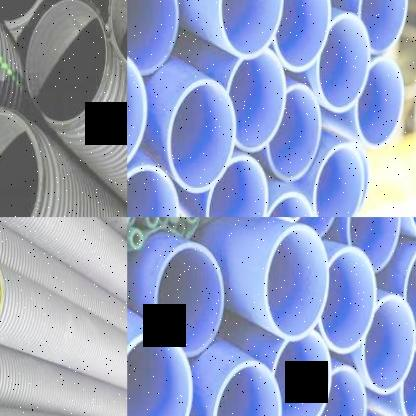pipe: (27, 0, 106, 123), (154, 241, 225, 356), (168, 78, 236, 194), (265, 224, 329, 341), (318, 246, 377, 353), (227, 48, 287, 152), (127, 330, 193, 416), (267, 83, 322, 182), (317, 13, 371, 112), (362, 295, 416, 394), (273, 330, 332, 416), (354, 57, 404, 150), (0, 107, 40, 217), (314, 141, 369, 217), (273, 0, 331, 71), (213, 359, 282, 416), (205, 155, 268, 217), (219, 0, 284, 60), (127, 0, 179, 74), (346, 217, 401, 272), (312, 364, 367, 416), (357, 0, 408, 55), (127, 164, 179, 217), (127, 48, 148, 176), (260, 191, 313, 217), (400, 338, 416, 416), (403, 242, 416, 336), (130, 230, 144, 250), (146, 217, 158, 227), (158, 217, 168, 224), (187, 217, 197, 224)
